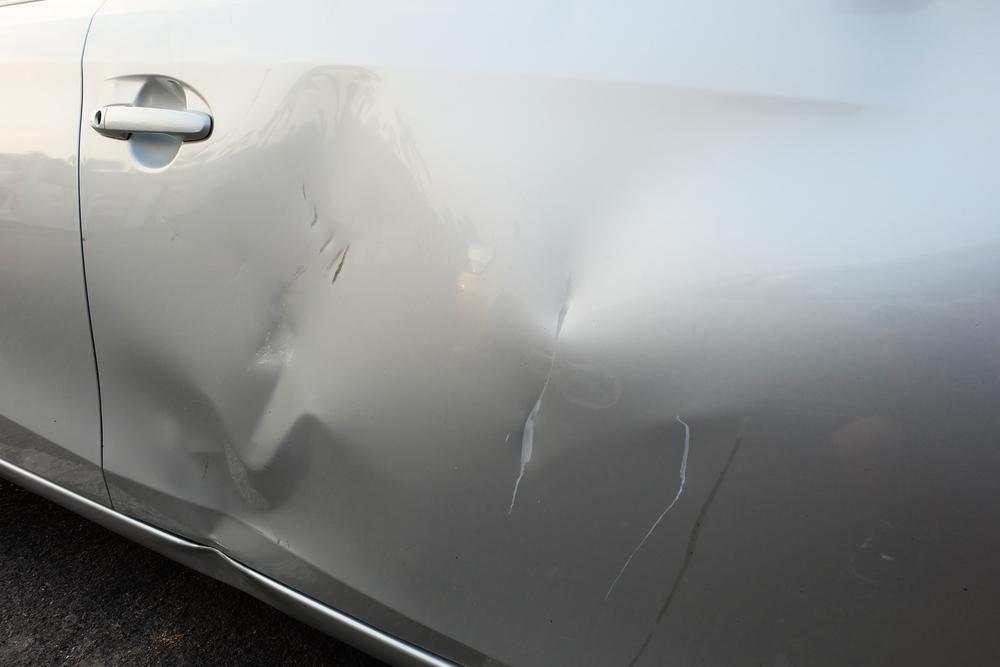dent: (116, 0, 1000, 554)
scratch: (625, 433, 746, 667), (606, 413, 697, 591), (507, 379, 549, 523)
